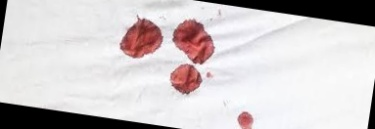blood: (169, 16, 218, 67), (122, 14, 166, 60), (168, 62, 204, 95), (232, 109, 262, 129)
